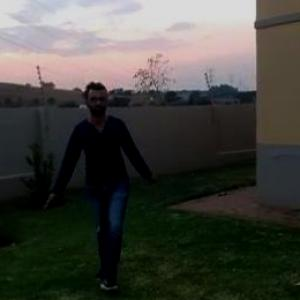land: (49, 81, 154, 299)
